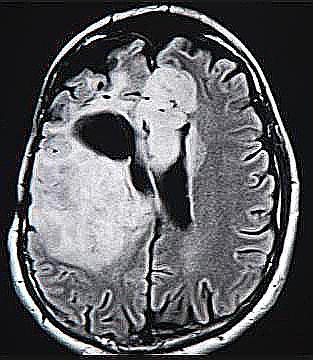Tumor: (27, 67, 209, 280)
